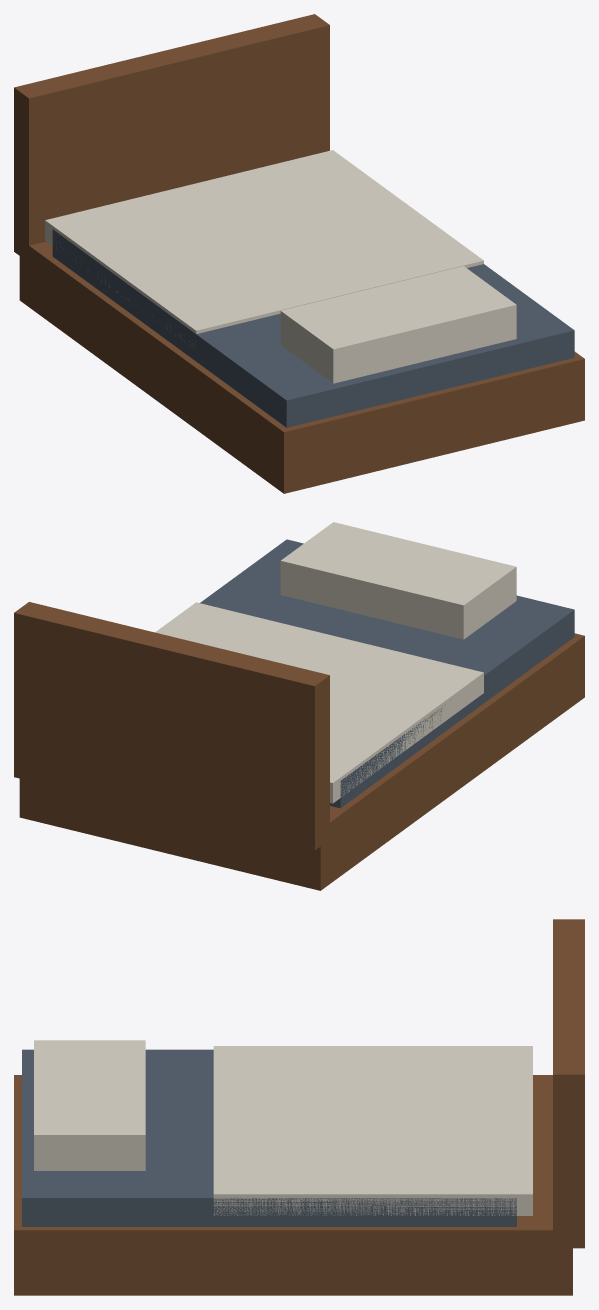
The model's file is Prop_Cama.obj.
3 renders of one model, top to bottom at view 1: azimuth 30°, elevation 25°; view 2: azimuth 150°, elevation 25°; view 3: azimuth 270°, elevation 25°, orthographic. The views are drawn at different scales.
Parts seen in each view (by area): view 1: madera, sabana, tela; view 2: madera, sabana, tela; view 3: sabana, madera, tela.
Boxes of the visible parts, left/top/right/bottom form: madera: left=14, top=14, right=584, bottom=493; sabana: left=45, top=150, right=516, bottom=383; tela: left=52, top=229, right=574, bottom=427; madera: left=14, top=602, right=584, bottom=890; sabana: left=155, top=522, right=516, bottom=803; tela: left=200, top=539, right=574, bottom=808; sabana: left=34, top=1040, right=532, bottom=1215; madera: left=14, top=919, right=584, bottom=1295; tela: left=22, top=1049, right=516, bottom=1226.
Size of the model in its own units: 0.46 by 0.305 by 0.715.
